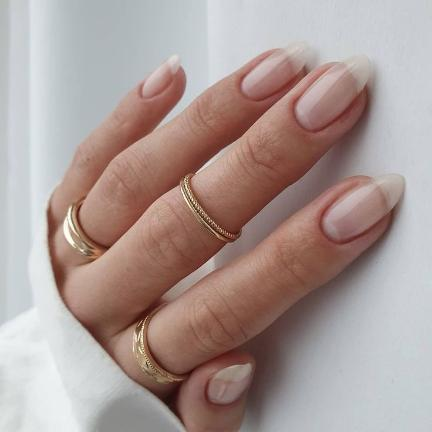Nail: (293, 54, 371, 131), (321, 174, 404, 244), (241, 42, 310, 101), (206, 363, 252, 405), (141, 56, 181, 99)
